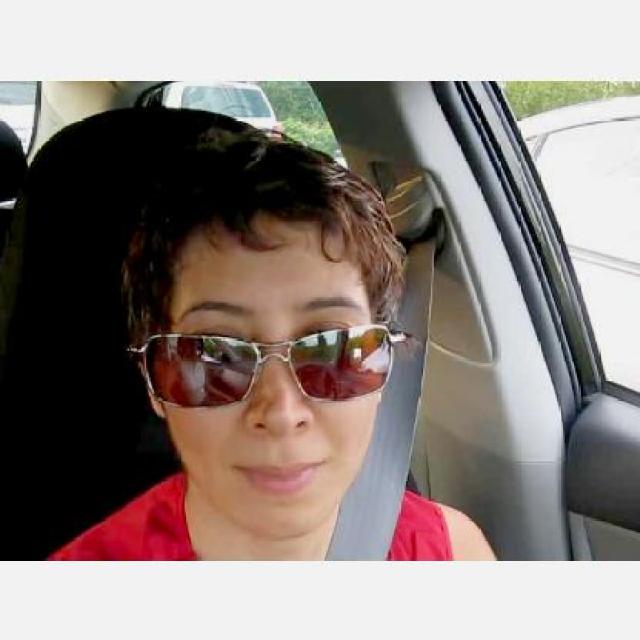attentif: (123, 135, 385, 536)
